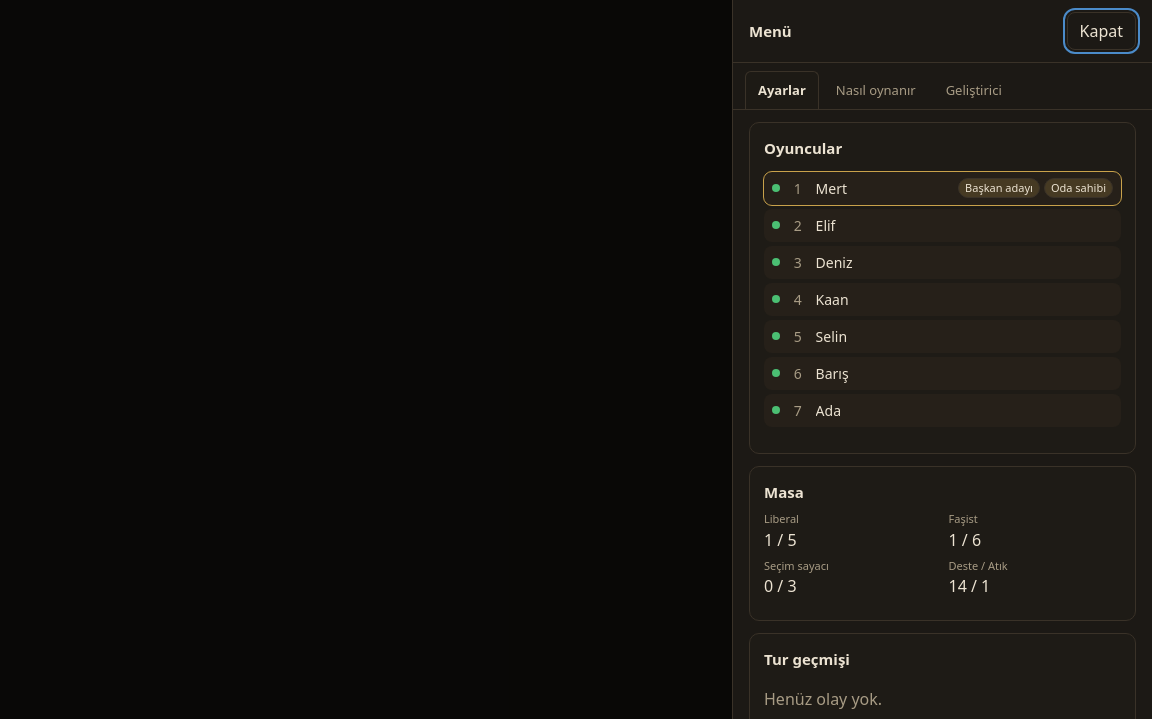
Test: GameMenu — Nasıl oynanır içeriği › yetki tablosu her tahta düzeni için bir satır çizer ve yetkileri adlandırır
The image size is (1152, 719).
Click the tab "Nasıl oynanır" at coordinates (876, 90), box x1=823 y1=71 x2=929 y2=109
(page scrolled)
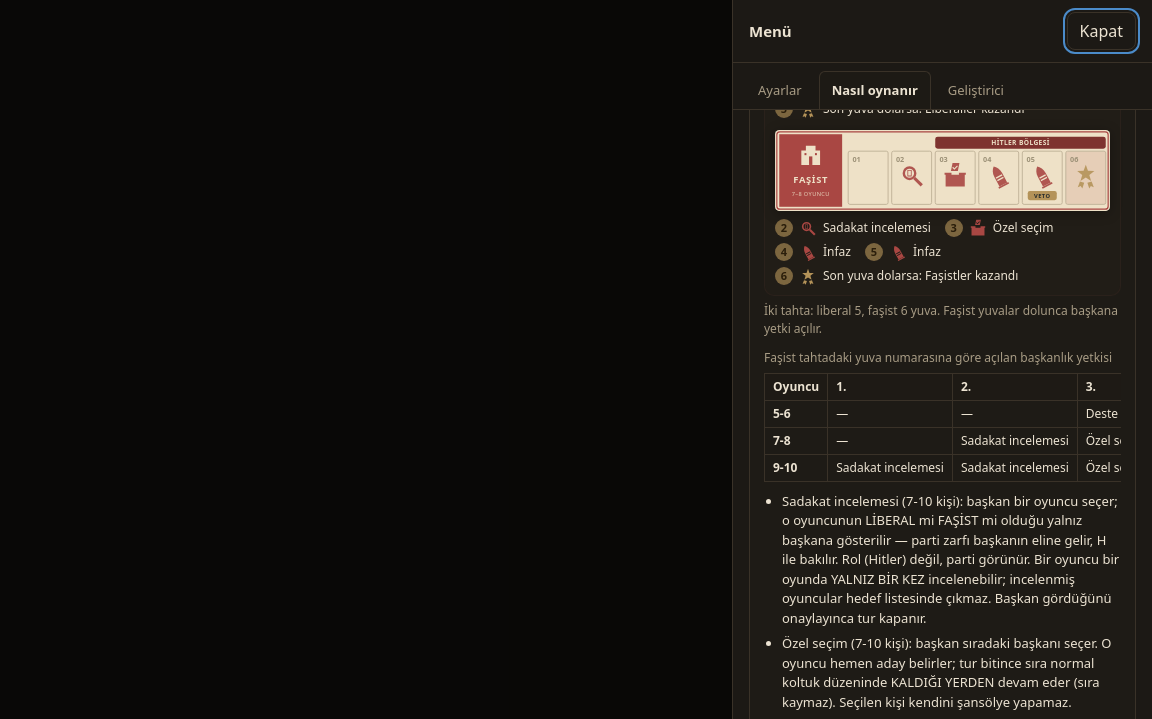
expect the table "başkanlık yetkisi" shows "Sadakat incelemesi": met, box x1=961 y1=432 x2=1069 y2=449
